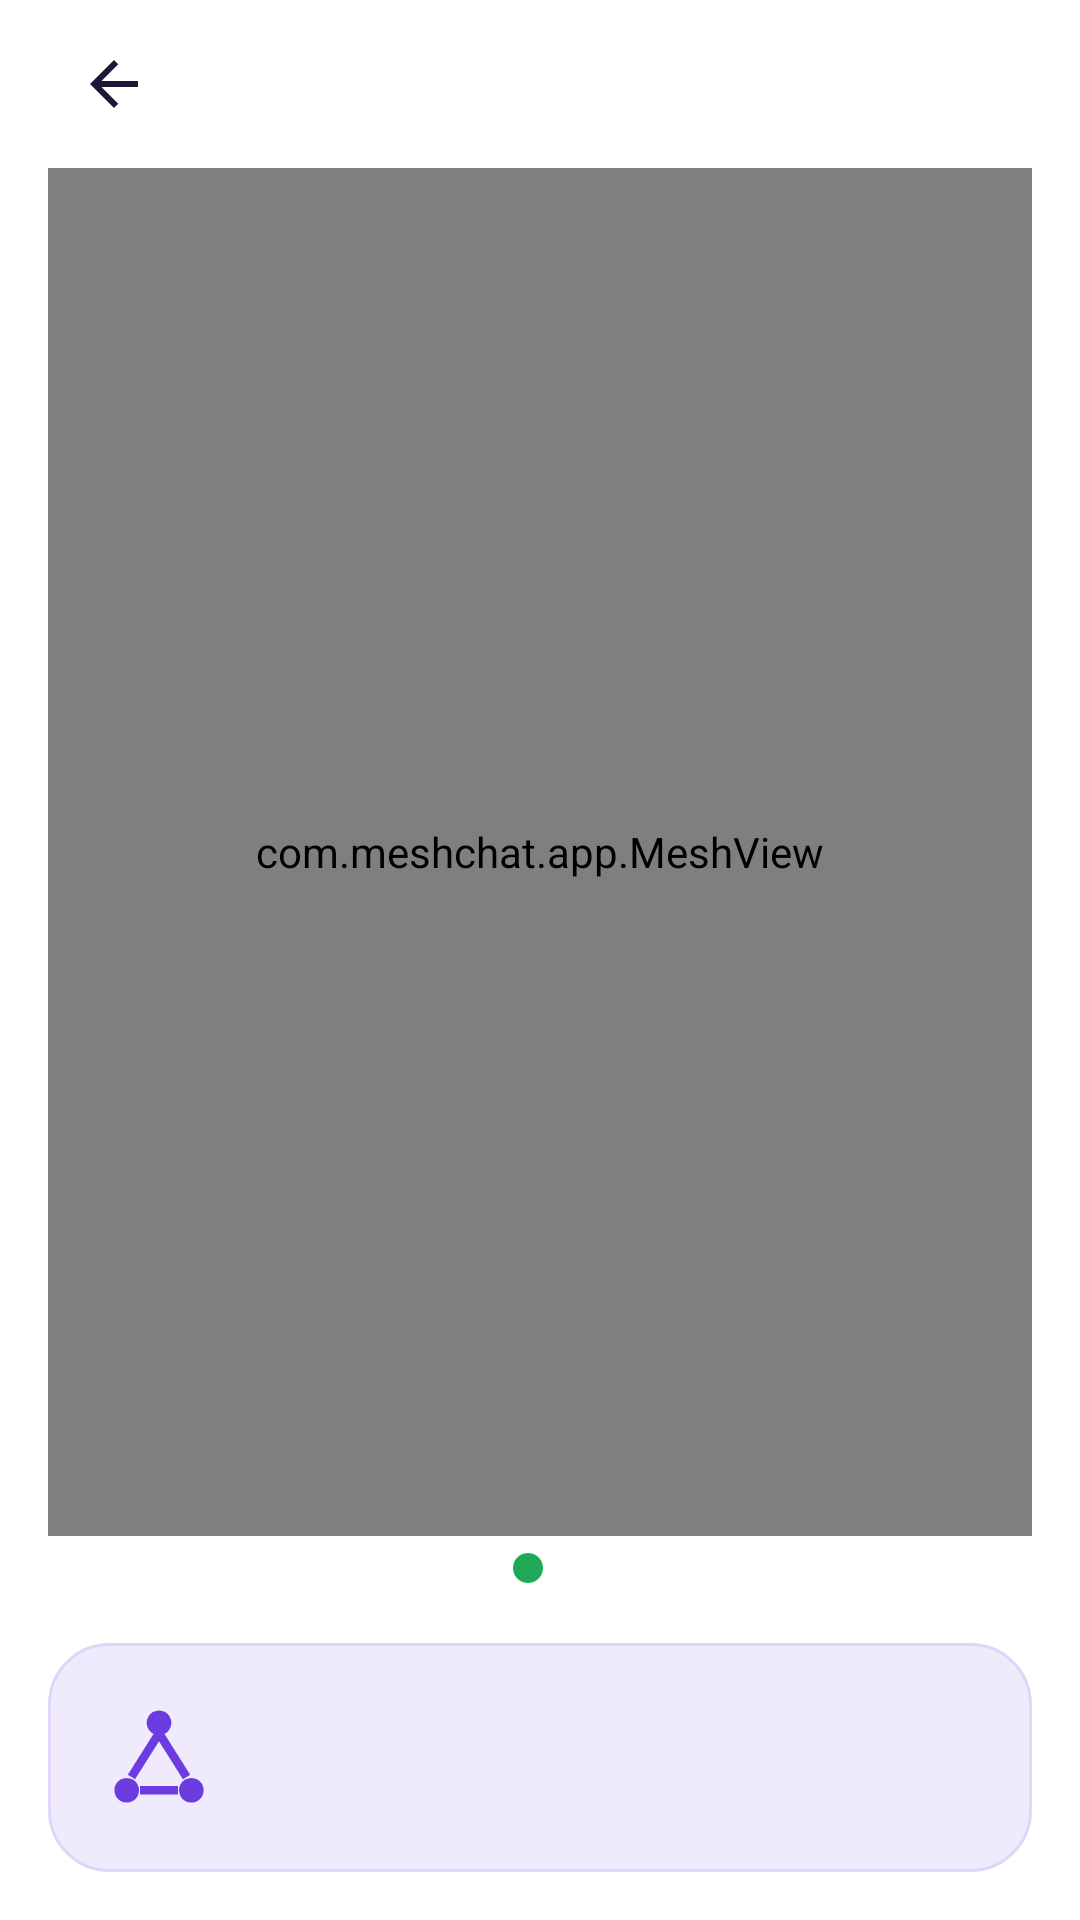

Locate icon controls on the screen. Image size 1080px×1920px, boxes as (x1, y1, x2, y2).
back: (90, 60, 138, 108)
mesh: (114, 1710, 204, 1803)
